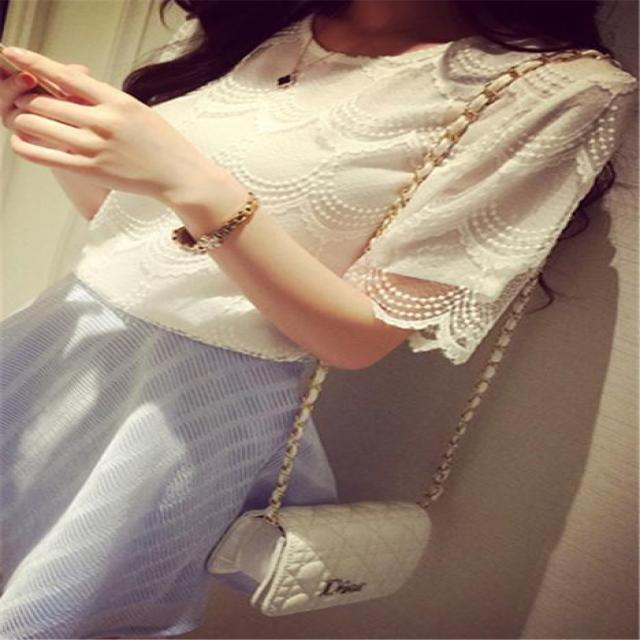short sleeve top: (71, 4, 635, 362)
skirt: (3, 265, 341, 638)
